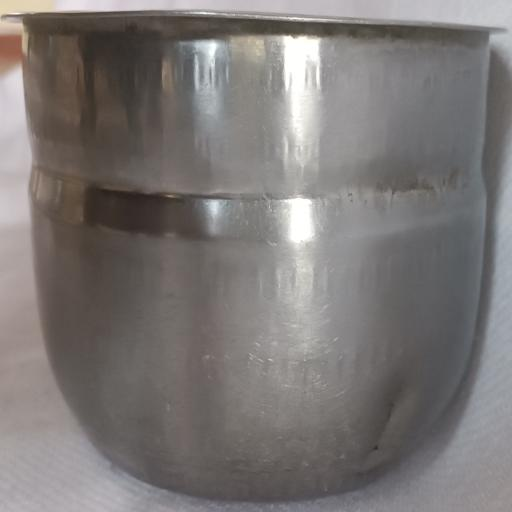vessel: (5, 11, 493, 500)
